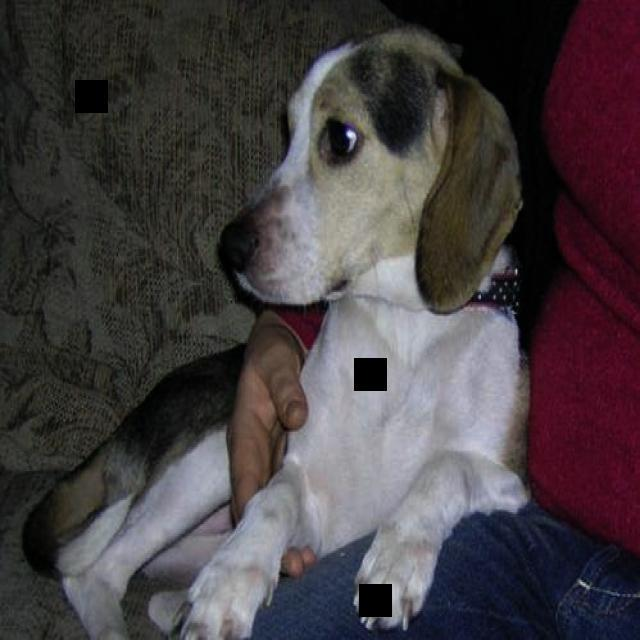puppy-dog: (17, 27, 533, 640)
